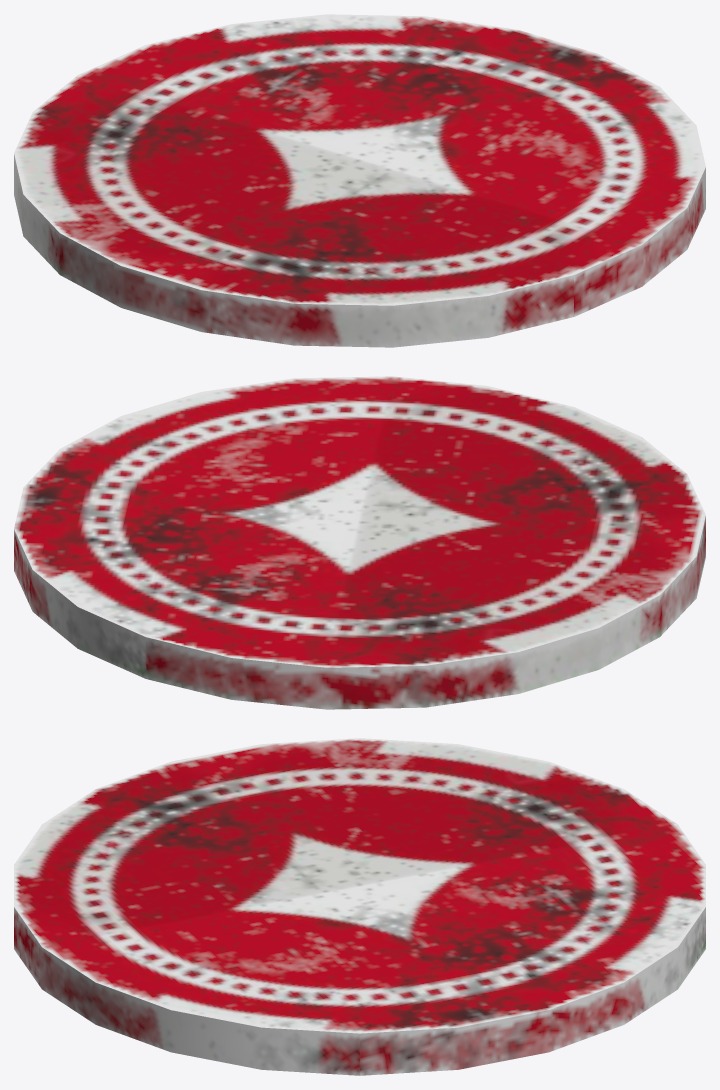
3 renders of one model, top to bottom at view 1: azimuth 30°, elevation 25°; view 2: azimuth 150°, elevation 25°; view 3: azimuth 270°, elevation 25°, orthographic.
Parts seen in each view (by area): view 1: f2__; view 2: f2__; view 3: f2__.
Boxes of the visible parts, <box> form: f2__: <box>14,14,705,347</box>; f2__: <box>14,376,705,709</box>; f2__: <box>14,738,705,1075</box>.
Size of the model in its own units: 30 by 2 by 29.69.
Materials: 1 (1 with a texture image).
